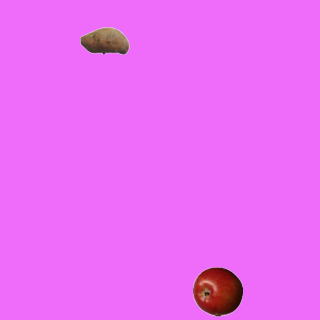Apple Braeburn: (192, 266, 242, 316)
Potato Sweet: (79, 15, 129, 65)
